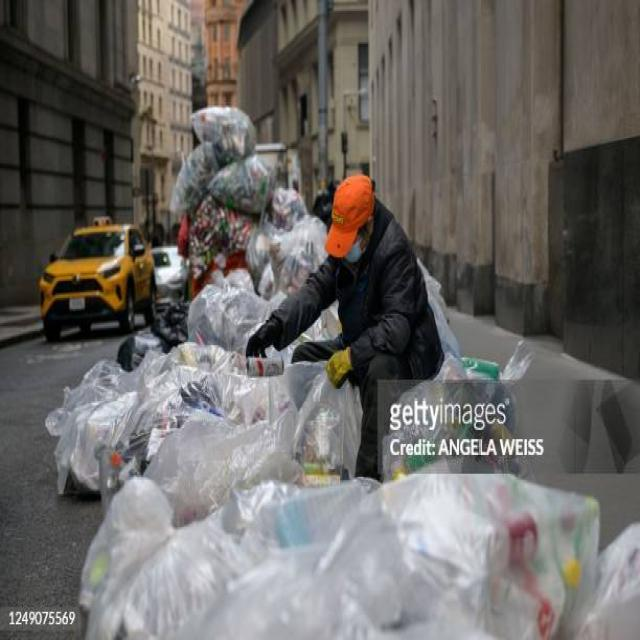trash: (95, 372, 582, 612), (175, 110, 298, 307)
